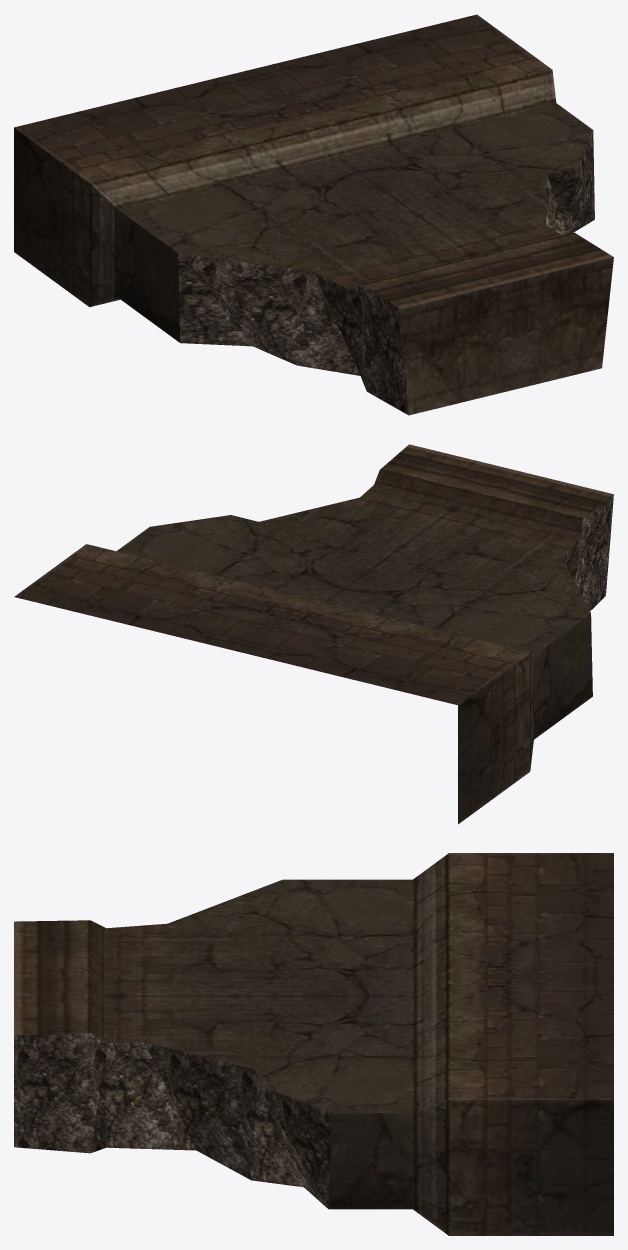
3 views of the same model, one above another, from view 1: azimuth 30°, elevation 25°; view 2: azimuth 150°, elevation 25°; view 3: azimuth 270°, elevation 25° (orthographic). The views are drawn at different scales.
Parts seen in each view (by area): view 1: model_Object14; view 2: model_Object14; view 3: model_Object14.
Boxes of the visible parts, x1=… form: model_Object14: x1=14, y1=14, x2=613, y2=415; model_Object14: x1=14, y1=444, x2=613, y2=824; model_Object14: x1=14, y1=853, x2=613, y2=1235.
Bounding box in the file's own units: 2.39 × 0.6132 × 2.45.
2 materials, 2 textured.
